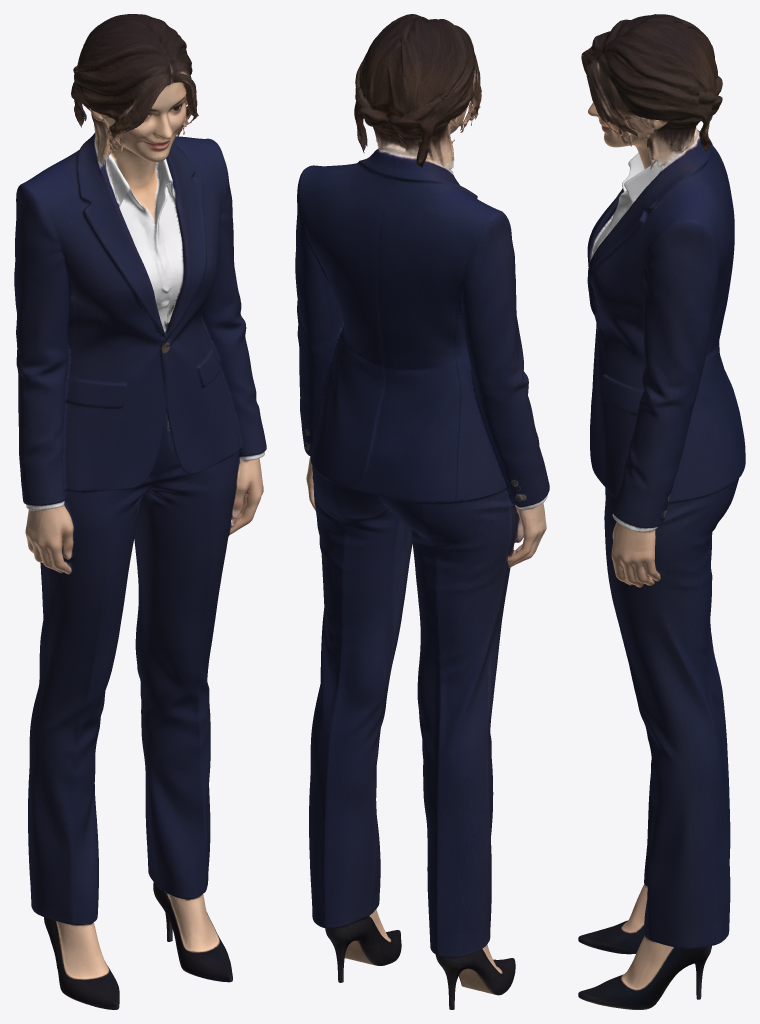
File: receptionist.glb
3 renders of one model, left to right at view 1: azimuth 30°, elevation 25°; view 2: azimuth 150°, elevation 25°; view 3: azimuth 270°, elevation 25°, orthographic.
Size of the model in its own units: 0.4942 by 1.9 by 0.3017.
1 material, 1 textured.
